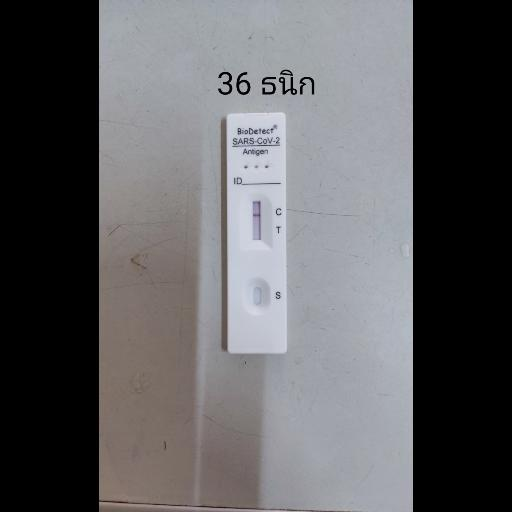Neg: (224, 115, 286, 355)
